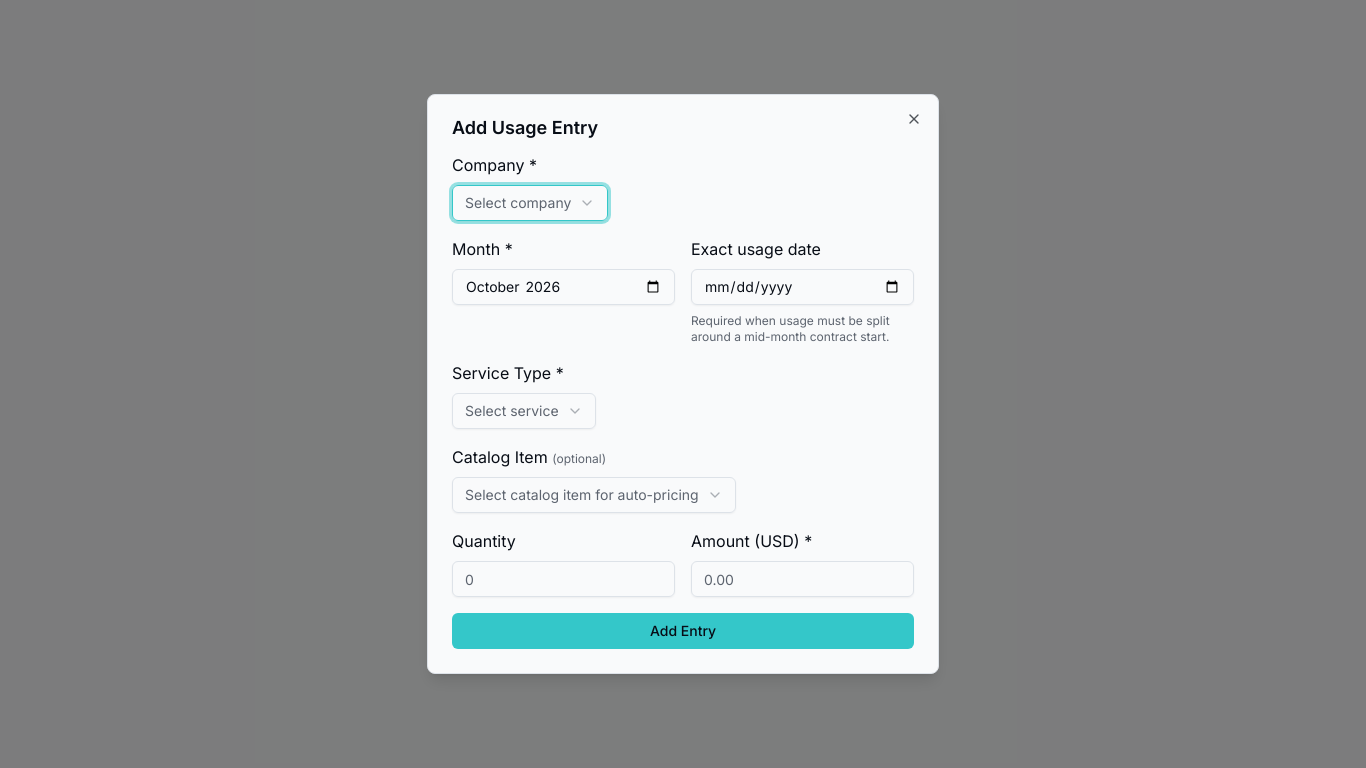
it: UsageEntryDialog smart service filtering › shows detected categories plus ECS-CCE/NAT/LTS and hides undetected categories
Click the dropdown labelled "Select company": (530,203) top-left (452, 185), bottom-right (608, 221)
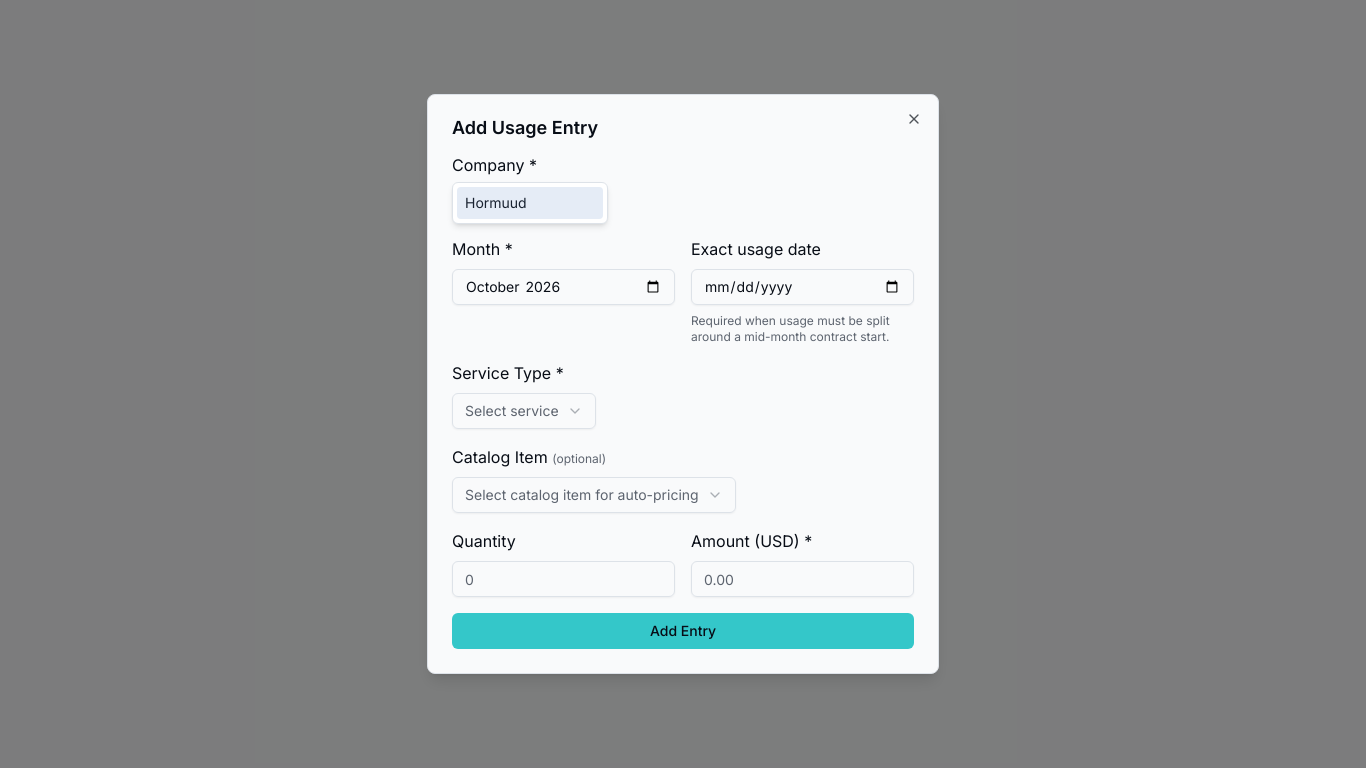
Click the option "Hormuud": (530,203) top-left (457, 187), bottom-right (603, 219)
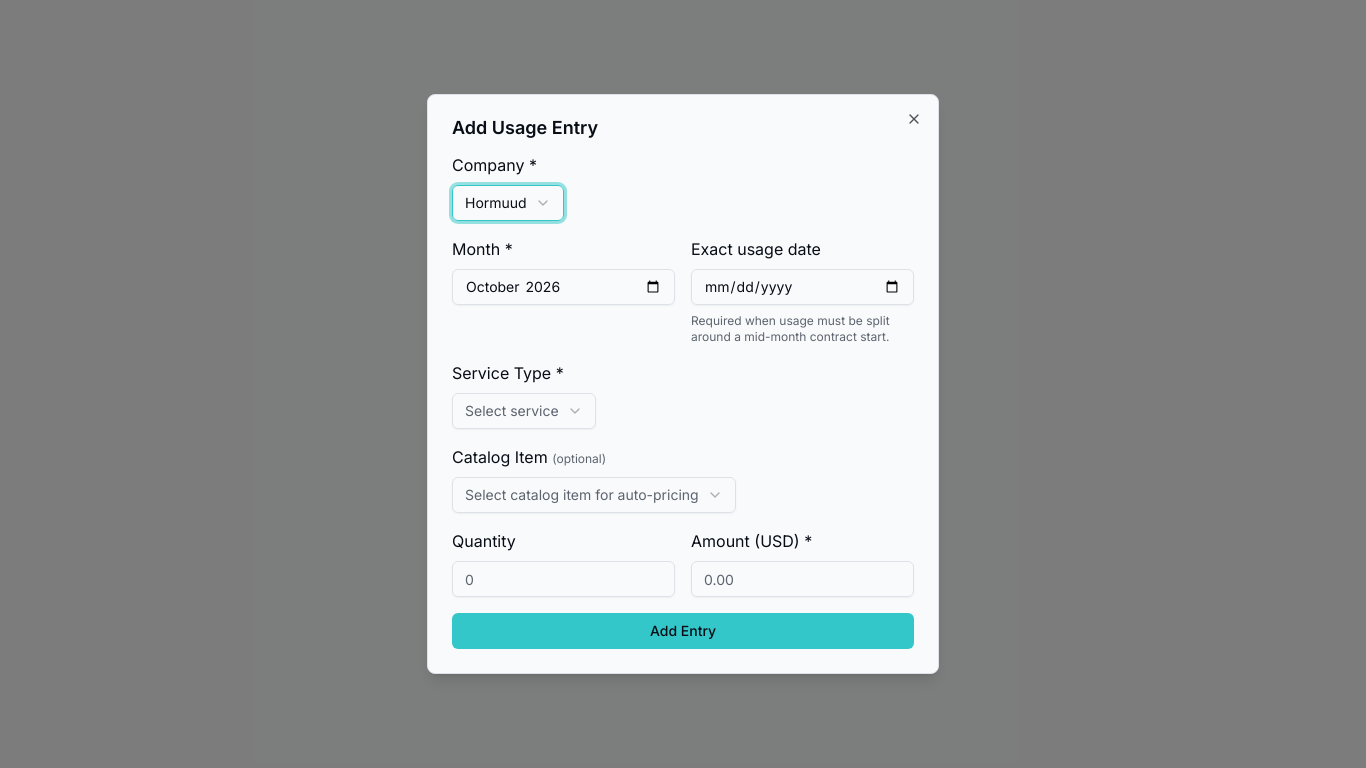
Click the dropdown labelled "Select service": (524,411) top-left (452, 393), bottom-right (596, 429)
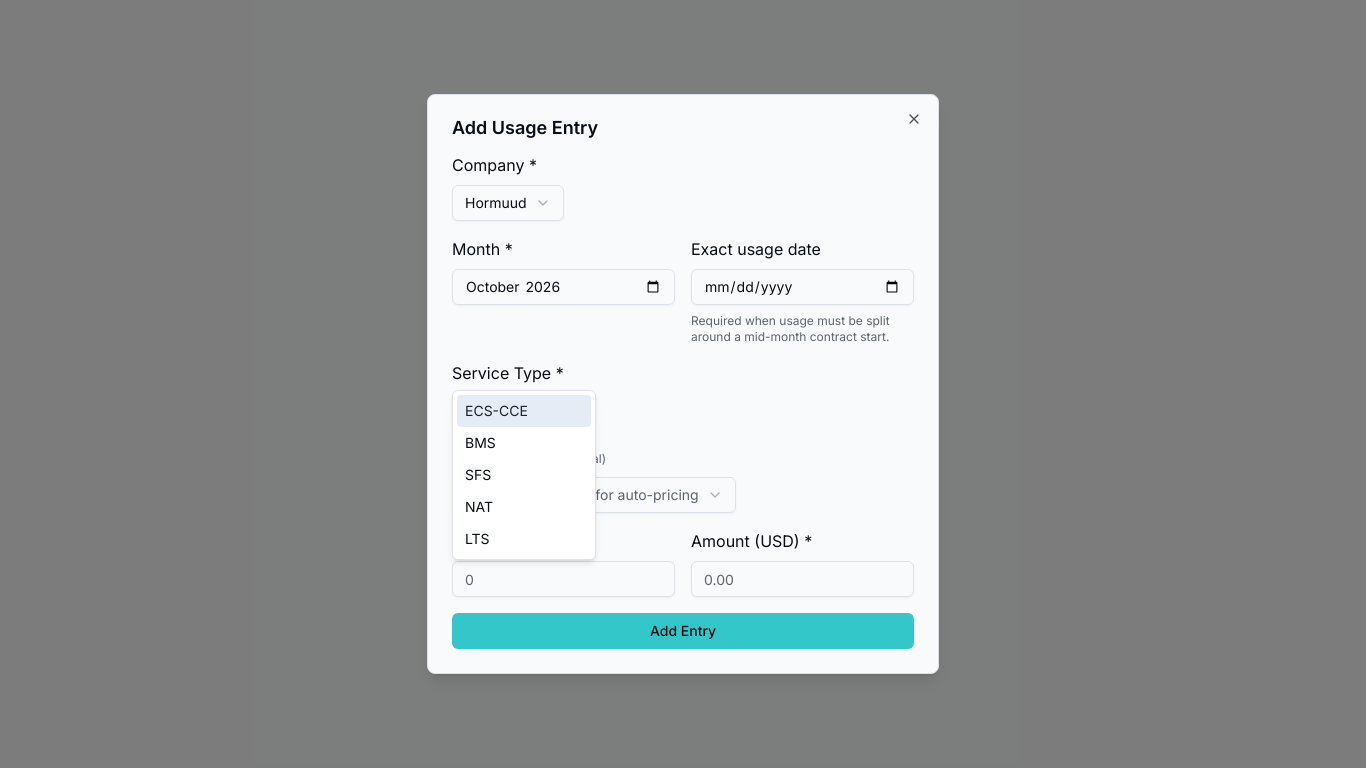
expect the option "BMS" is shown: met, box top-left (465, 434), bottom-right (496, 451)
expect the option "SFS" is shown: met, box top-left (465, 466), bottom-right (491, 483)
expect the option "ECS-CCE" is shown: met, box top-left (457, 395), bottom-right (591, 427)
